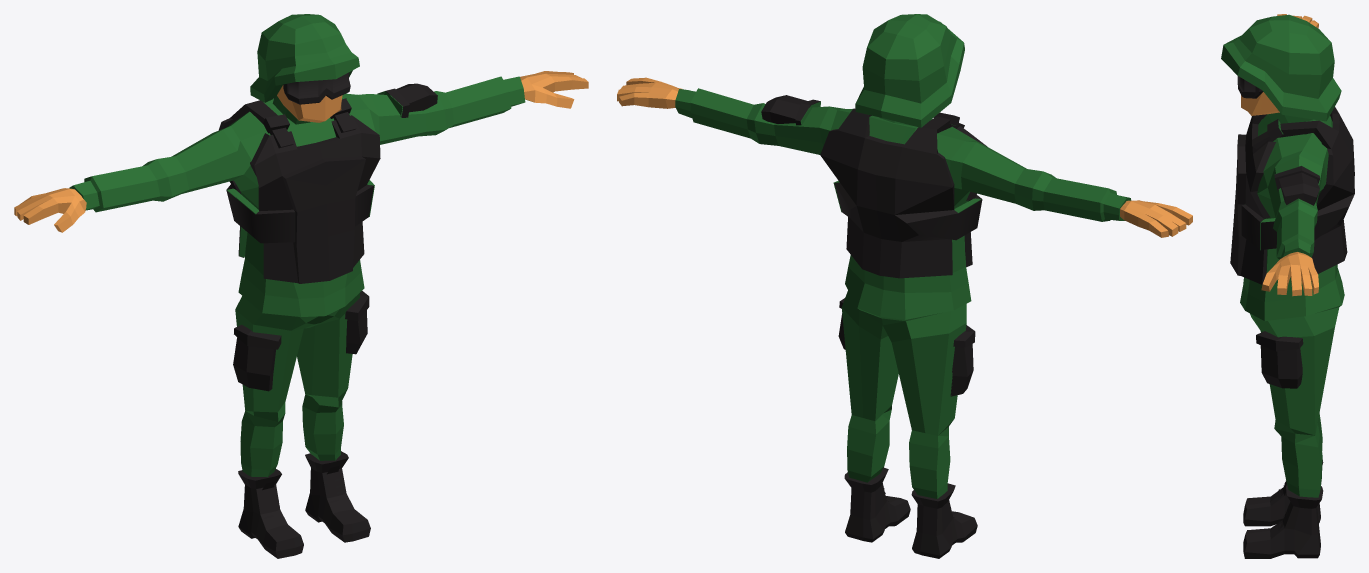
Rendered from robotmainasker.fbx.
3 views of the same model, side by side, from view 1: azimuth 30°, elevation 25°; view 2: azimuth 150°, elevation 25°; view 3: azimuth 270°, elevation 25° (orthographic).
Parts seen in each view (by area): view 1: Soldat, Soldat.001, Soldat.002, Soldat.006, Soldat.003, Soldat.004, Soldat.005; view 2: Soldat, Soldat.001, Soldat.006, Soldat.002, Soldat.004, Soldat.003; view 3: Soldat, Soldat.001, Soldat.006, Soldat.002, Soldat.003, Soldat.004, Soldat.005.
Part boxes in pixels (x1,y1,x2,y2): Soldat: (69, 76, 546, 477); Soldat.001: (218, 98, 380, 283); Soldat.002: (238, 451, 370, 558); Soldat.006: (250, 14, 359, 102); Soldat.003: (233, 83, 437, 391); Soldat.004: (14, 71, 588, 232); Soldat.005: (283, 72, 350, 104); Soldat: (675, 88, 1131, 498); Soldat.001: (820, 108, 987, 278); Soldat.006: (855, 14, 964, 127); Soldat.002: (844, 467, 977, 558); Soldat.004: (617, 77, 1192, 237); Soldat.003: (761, 95, 975, 396); Soldat: (1240, 92, 1344, 497); Soldat.001: (1230, 107, 1354, 284); Soldat.006: (1221, 14, 1341, 121); Soldat.002: (1243, 460, 1323, 558); Soldat.003: (1256, 166, 1319, 388); Soldat.004: (1261, 14, 1318, 296); Soldat.005: (1237, 76, 1263, 98).
Size of the model in its own units: 7.89 by 6.92 by 1.63.
